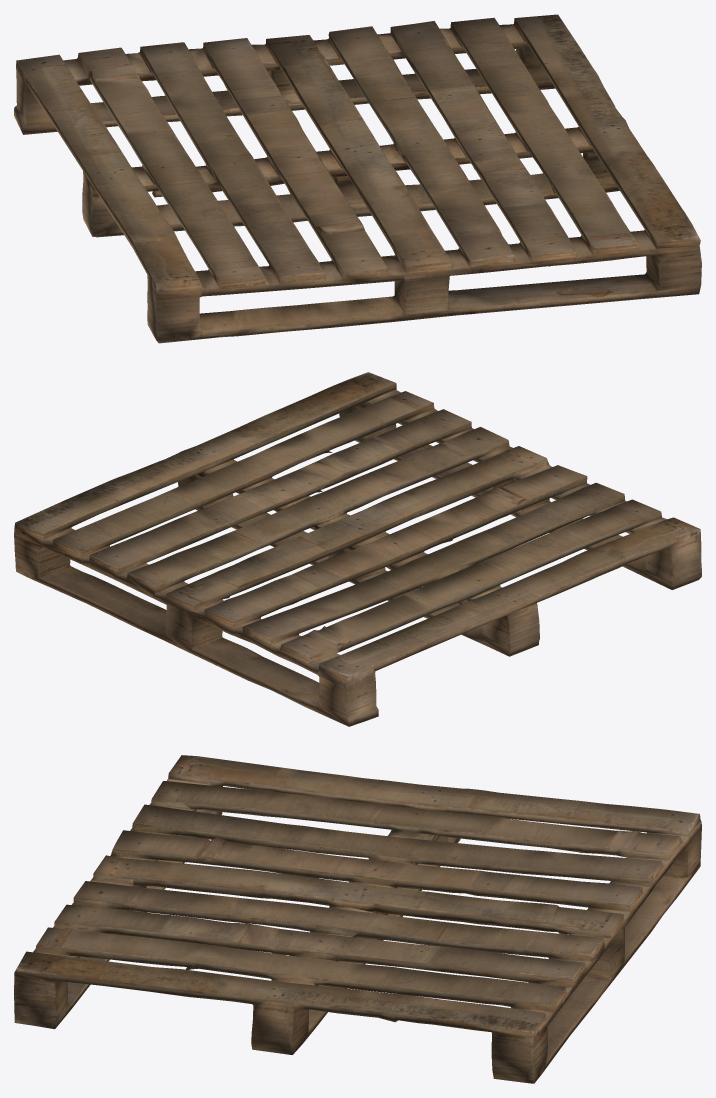
Rendered from Pallet.glb.
The picture shows the model from 3 angles, top to bottom: view 1: azimuth 30°, elevation 25°; view 2: azimuth 150°, elevation 25°; view 3: azimuth 270°, elevation 25°; orthographic projection. The views are drawn at different scales.
Visible parts, largest first — view 1: Pallet; view 2: Pallet; view 3: Pallet.
Boxes of the visible parts, bbox=[...] form: Pallet: bbox=[14, 14, 701, 343]; Pallet: bbox=[14, 372, 701, 726]; Pallet: bbox=[14, 755, 701, 1083].
Size of the model in its own units: 1.42 by 0.1438 by 1.5.
1 material, 1 textured.
